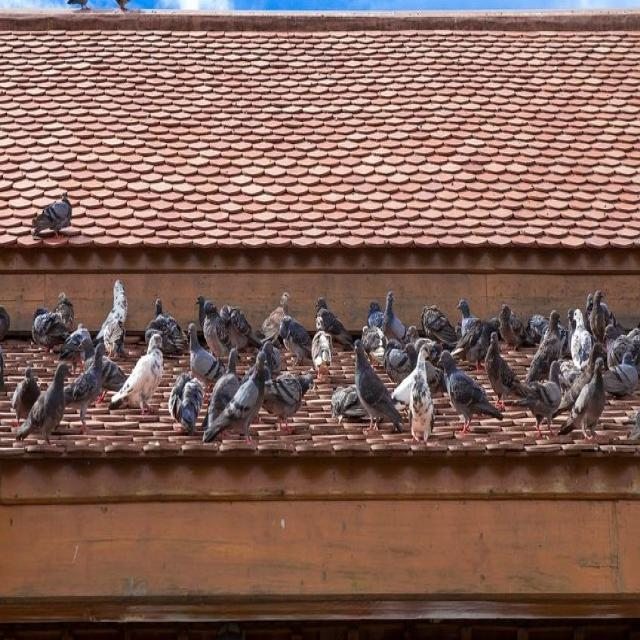bird: (438, 350, 504, 437), (14, 359, 74, 450), (353, 338, 405, 437), (220, 348, 270, 444), (555, 354, 607, 442), (109, 333, 164, 414), (63, 342, 106, 434), (202, 346, 240, 444), (260, 370, 316, 434), (484, 332, 529, 408), (94, 278, 128, 361), (195, 295, 235, 365), (514, 377, 562, 435), (451, 315, 499, 370), (186, 322, 226, 386), (144, 297, 187, 356), (218, 303, 264, 353), (315, 296, 354, 352), (408, 371, 435, 446), (32, 191, 72, 239), (602, 349, 639, 400), (278, 315, 314, 367), (421, 304, 460, 350), (259, 290, 290, 344), (497, 303, 527, 351), (570, 307, 592, 371), (382, 291, 407, 342), (311, 324, 333, 379), (168, 371, 191, 420), (331, 384, 358, 423), (589, 290, 608, 345), (455, 298, 480, 338), (628, 409, 640, 443)
